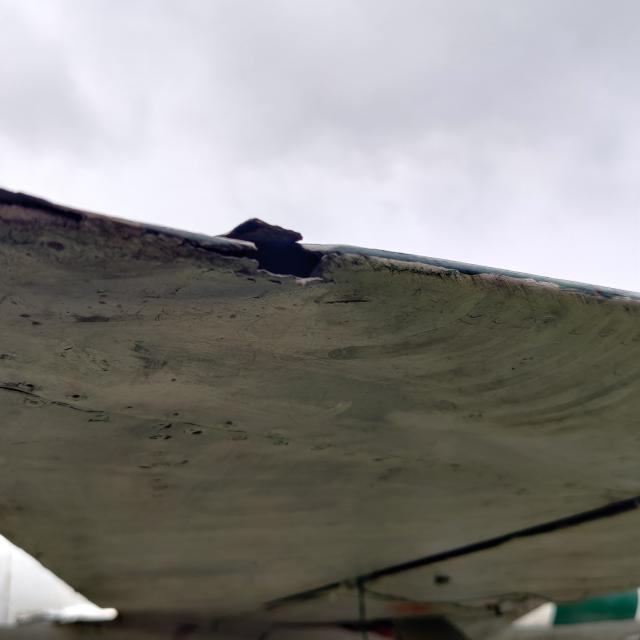crack: (196, 214, 352, 296)
